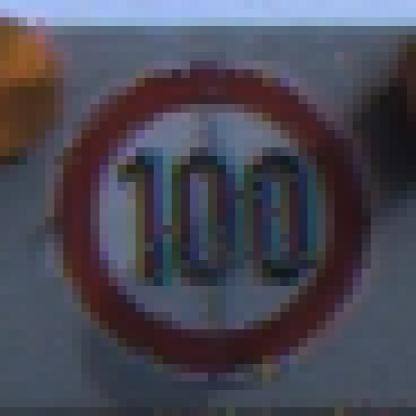Speed Limit 100: (58, 66, 364, 370)
